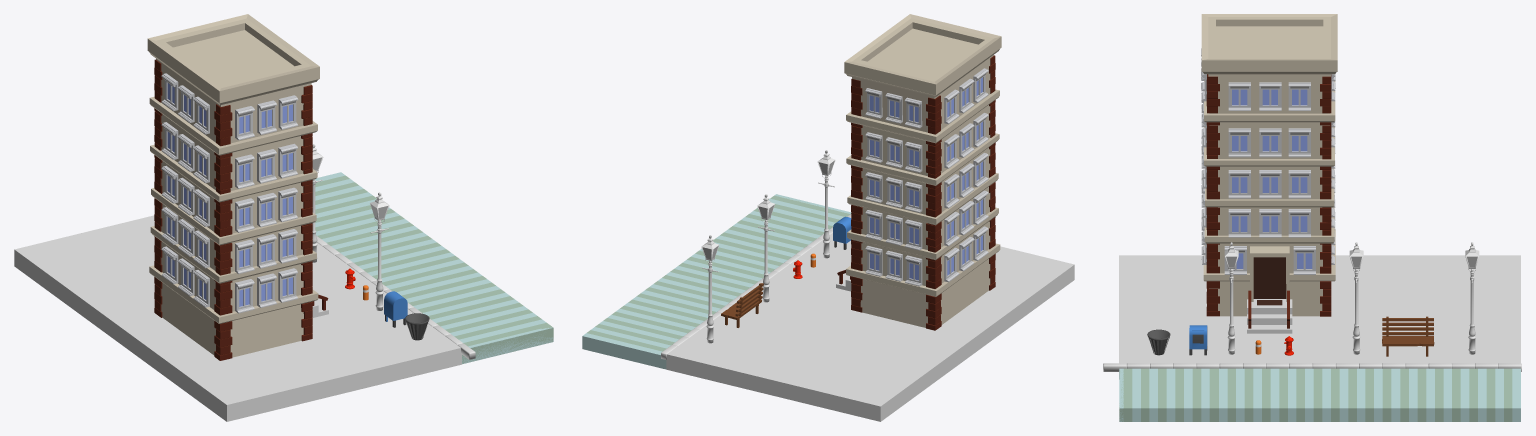
Rendered from DonutRun.fbx.
3 views of the same model, side by side, from view 1: azimuth 30°, elevation 25°; view 2: azimuth 150°, elevation 25°; view 3: azimuth 270°, elevation 25° (orthographic). The views are drawn at different scales.
Visible parts, largest first — view 1: Bina, Zemin, 2xGameArea, 2xGameAreaBoşluklu, Street Lamp, Kaldırım, 2xGameAreaBoşluklu2, posta kutusu.001, çöpk kutusu.001; view 2: Bina, Zemin, 2xGameArea, Street Lamp, 2xGameAreaBoşluklu, Kaldırım, 2xGameAreaBoşluklu2, bank; view 3: Bina, Zemin, 2xGameArea, 2xGameAreaBoşluklu, Kaldırım, Street Lamp, 2xGameAreaBoşluklu2, bank, posta kutusu.001, çöpk kutusu.001.
Boxes of the visible parts, x1,y1,x2,y2 form: Bina: (147, 14, 328, 360); Zemin: (14, 215, 461, 421); 2xGameArea: (315, 172, 553, 363); 2xGameAreaBoşluklu: (315, 186, 553, 363); Street Lamp: (312, 144, 389, 310); Kaldırım: (316, 236, 475, 359); 2xGameAreaBoşluklu2: (317, 212, 491, 297); posta kutusu.001: (384, 291, 407, 327); çöpk kutusu.001: (405, 313, 429, 340); Bina: (836, 14, 1001, 330); Zemin: (666, 233, 1074, 421); 2xGameArea: (582, 194, 851, 369); Street Lamp: (701, 150, 835, 343); 2xGameAreaBoşluklu: (600, 194, 849, 343); Kaldırım: (661, 214, 851, 359); 2xGameAreaBoşluklu2: (582, 234, 789, 368); bank: (721, 283, 763, 327); Bina: (1201, 14, 1337, 333); Zemin: (1119, 255, 1520, 379); 2xGameArea: (1119, 368, 1520, 421); 2xGameAreaBoşluklu: (1119, 368, 1490, 421); Kaldırım: (1103, 363, 1521, 371); Street Lamp: (1224, 242, 1479, 354); 2xGameAreaBoşluklu2: (1119, 368, 1486, 421); bank: (1382, 316, 1434, 356); posta kutusu.001: (1189, 325, 1207, 355); çöpk kutusu.001: (1147, 329, 1170, 355).
Bounding box in the file's own units: 90334 × 76576 × 105895.
